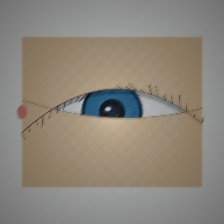hemorrhage_spot: (43, 98, 110, 152)
